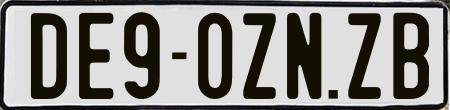0: (195, 10, 232, 97)
9: (122, 11, 158, 102)
B: (392, 11, 434, 101)
D: (29, 10, 69, 97)
E: (78, 11, 114, 97)
N: (285, 12, 322, 99)
Z: (347, 12, 386, 103), (241, 13, 277, 105)
